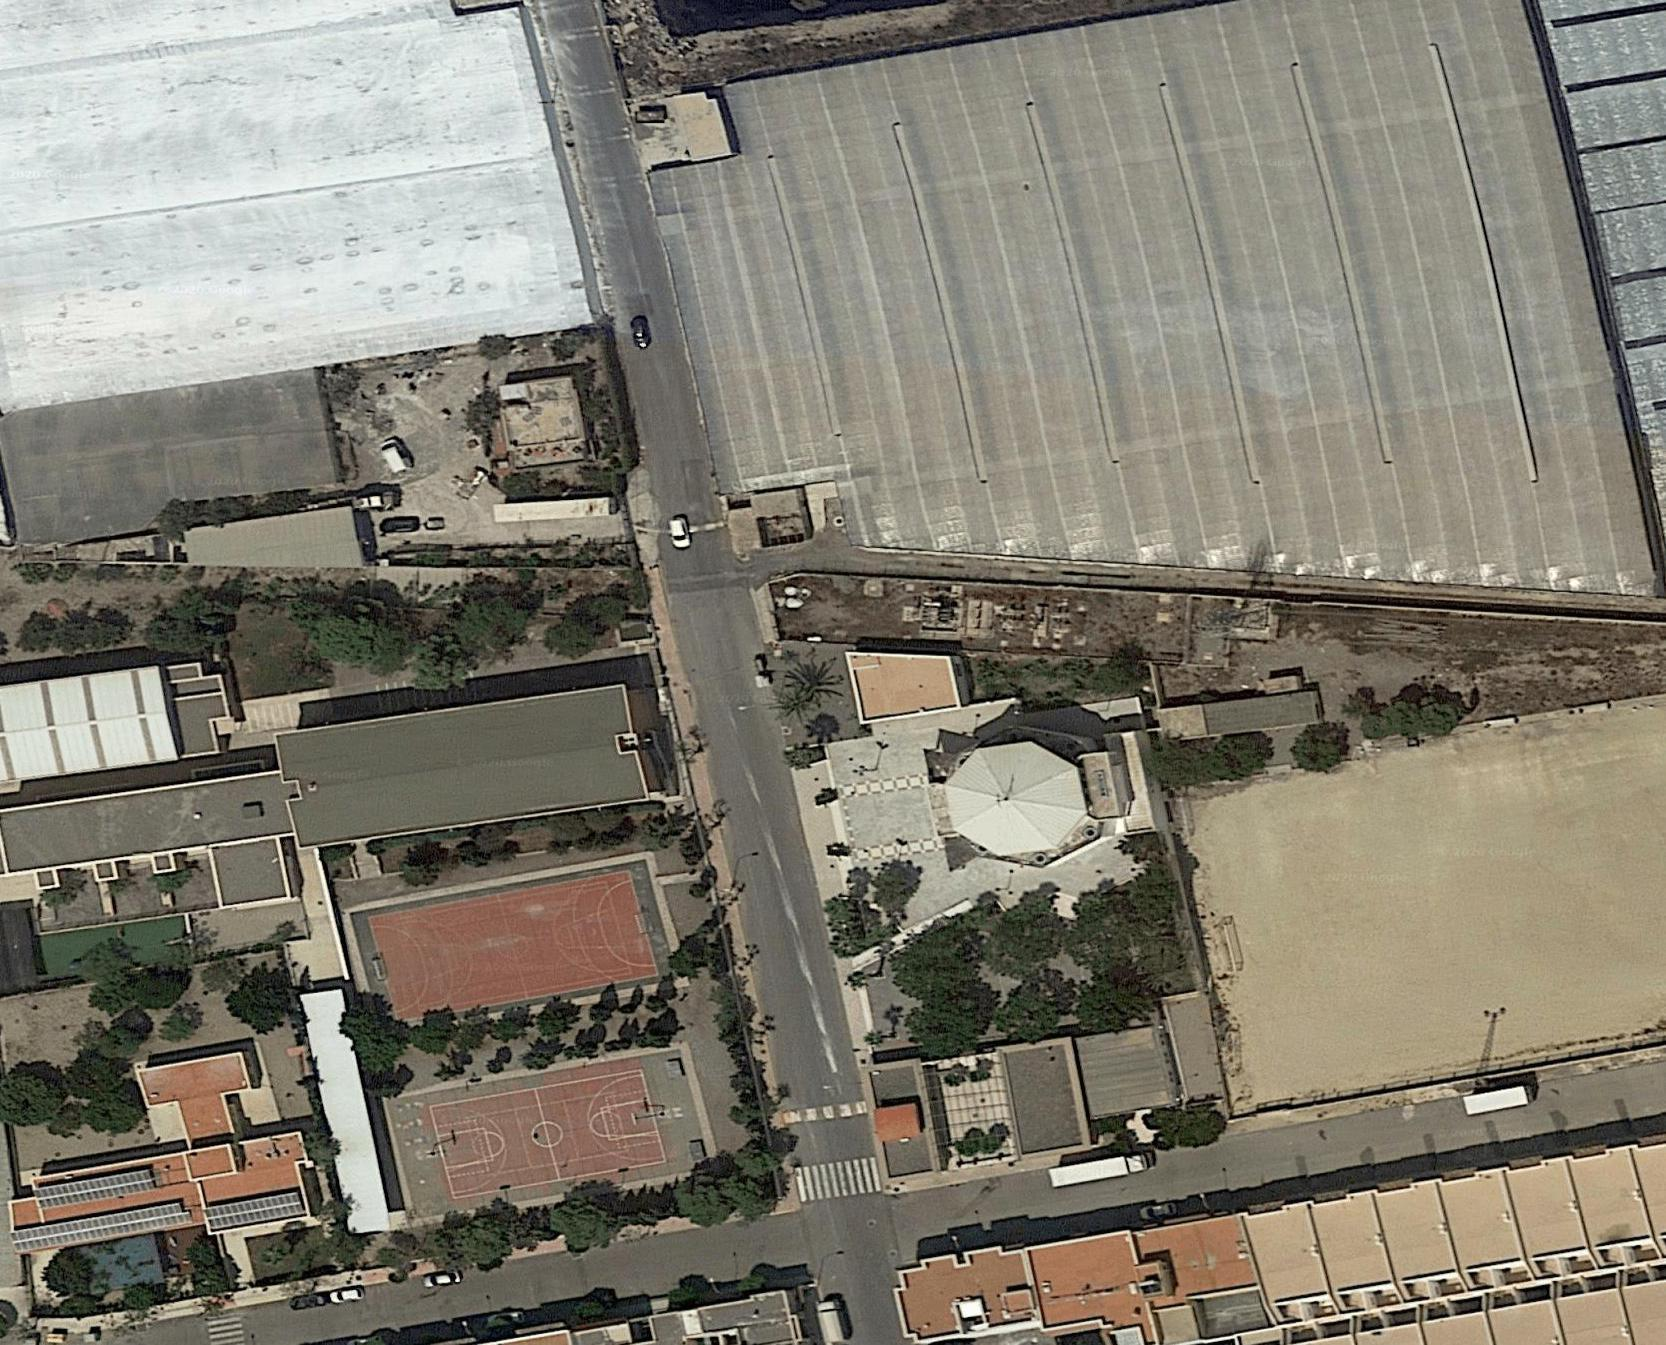substation: (896, 579, 1090, 656)
